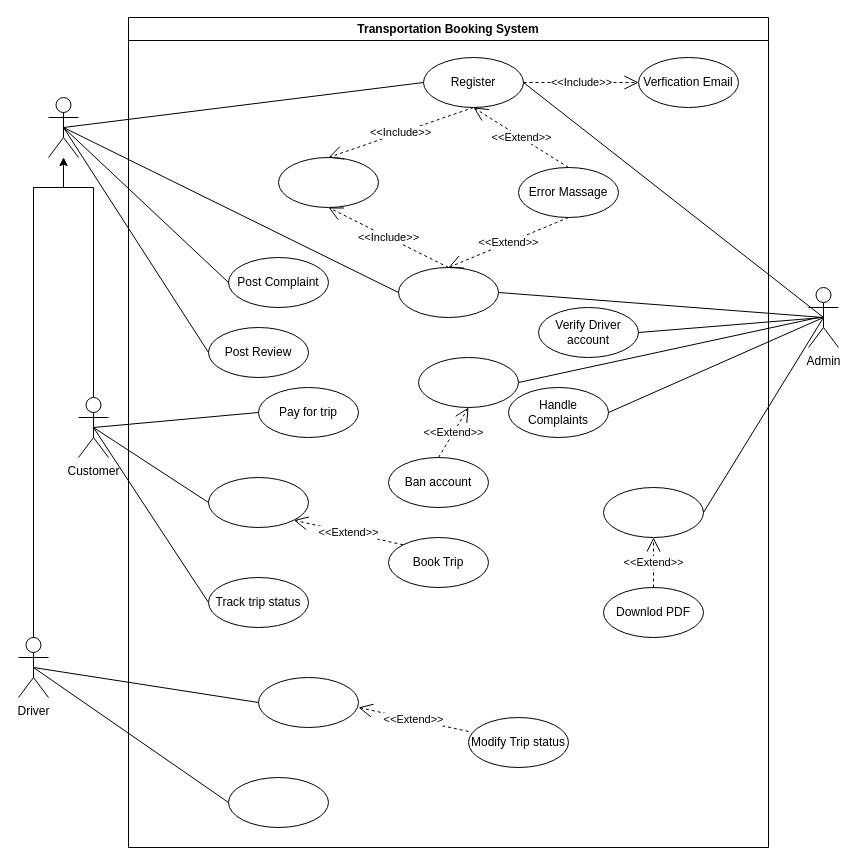
Image size: 857x865. Some labels were removed from this diagram. The shapes that lost their labels are listed below. From the top down, each one's box as (x1, y1, x2, y2) in pixels, then its label:
(48, 96, 78, 158): User
(278, 156, 378, 208): Send OTP
(398, 266, 498, 318): Login
(418, 356, 518, 408): Manage accounts
(208, 476, 308, 528): Request Trip
(602, 486, 704, 538): View report
(258, 676, 358, 728): Accept trip
(228, 776, 328, 828): Reject trip
